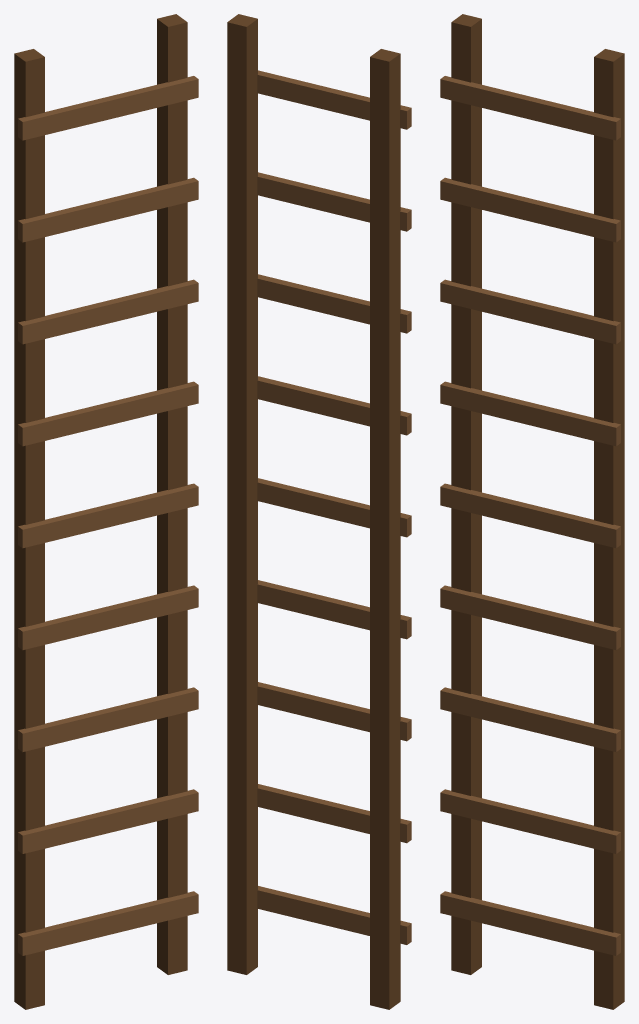
Rendered from Stairs_01.glb.
3 renders of one model, left to right at view 1: azimuth 30°, elevation 25°; view 2: azimuth 150°, elevation 25°; view 3: azimuth 330°, elevation 25°, orthographic.
Parts seen in each view (by area): view 1: Stairs_01; view 2: Stairs_01; view 3: Stairs_01.
Part boxes in pixels (x1,y1,x2,y2): Stairs_01: (14, 14, 198, 1009); Stairs_01: (227, 14, 411, 1009); Stairs_01: (440, 14, 624, 1009).
Size of the model in its own units: 0.6799 by 3.5 by 0.1028.
1 material, 1 textured.
